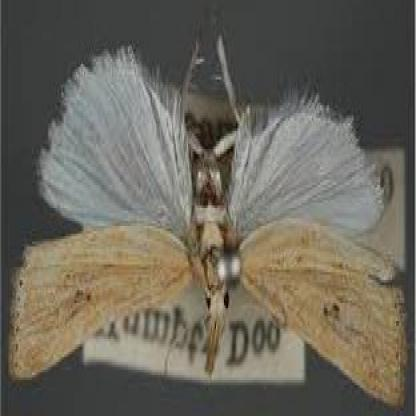stem-borer: (9, 31, 406, 410)
